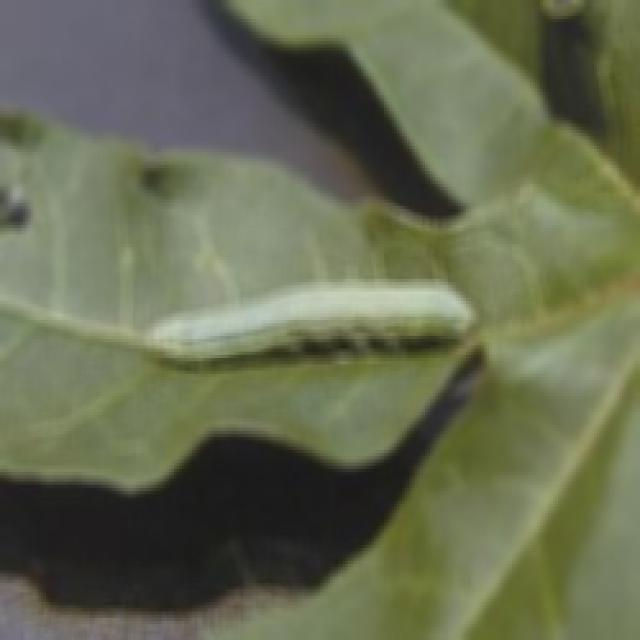army worm: (147, 270, 485, 353)
